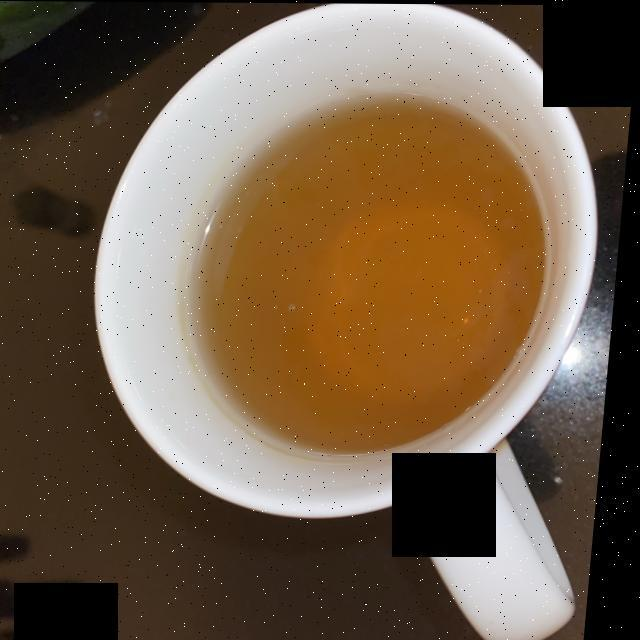tea: (200, 102, 545, 449)
